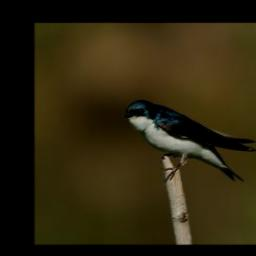Swallow: (122, 98, 256, 186)
